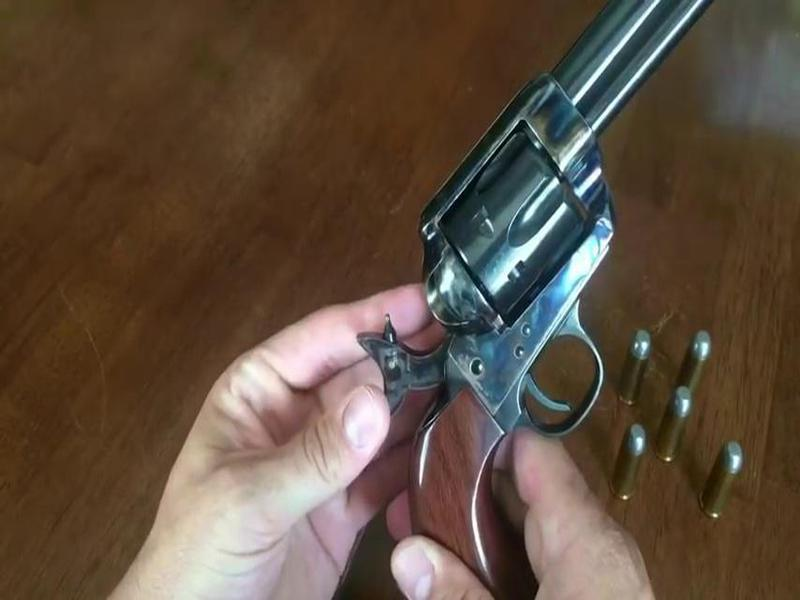Revolver: (396, 13, 670, 456)
